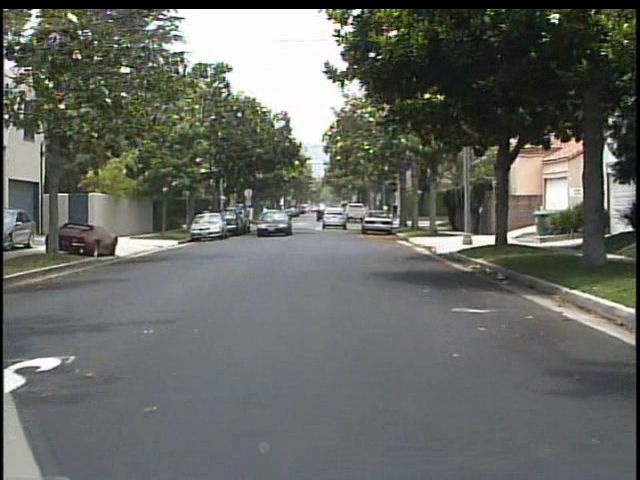person: (471, 194, 485, 237), (199, 204, 214, 232)
